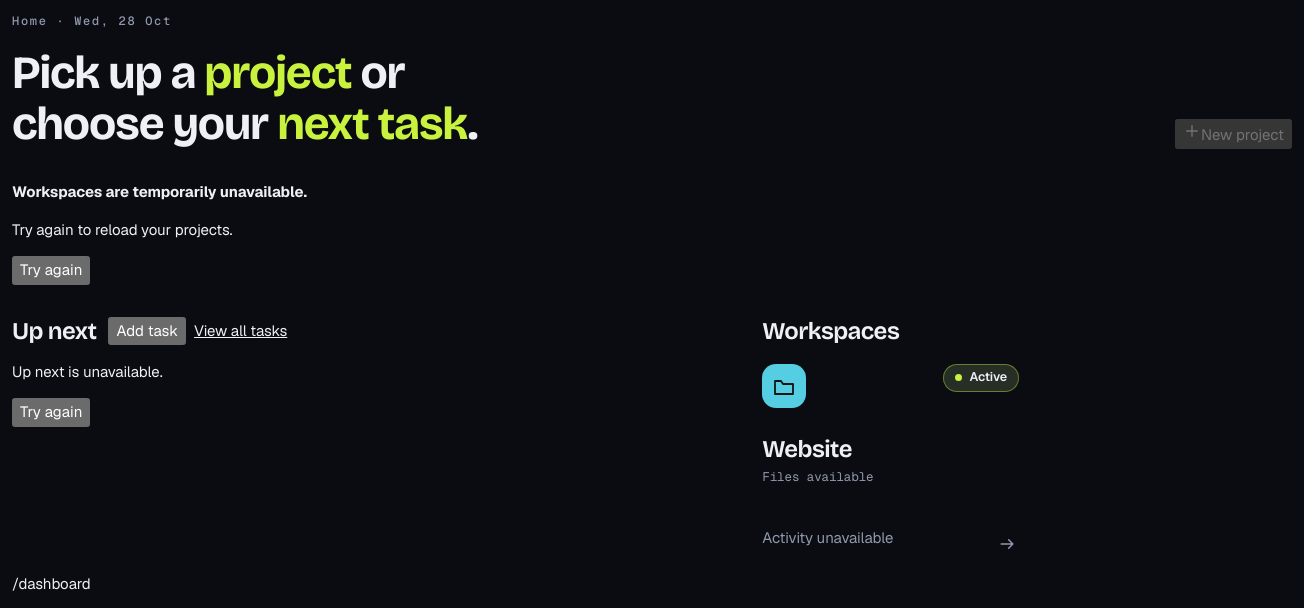
DashboardPage chat and task Home › fails closed on workspace boundary errors and retries overview loading
Check: the message with test id "workspace-boundary-error" shows "Workspaces are temporarily unavailable", box [12,182,307,201]
Check: the message with test id "home-up-next-error" shows "Up next is unavailable.", box [12,362,163,381]
What coordinates should you click on to do the following:
click the button with test id "workspace-boundary-retry-button"
I would click on:
 (51, 271)
Its box is [12,256,90,285].
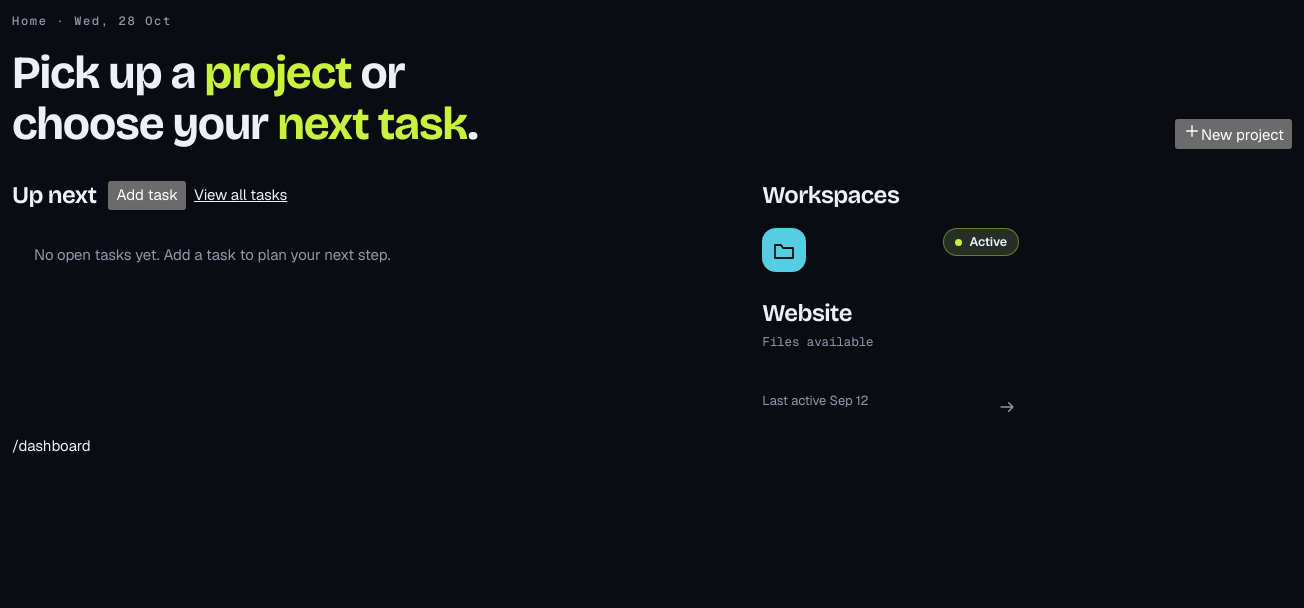
Check: the text with test id "home-tasks-empty" shows "No open tasks yet.", box [34,245,390,264]
